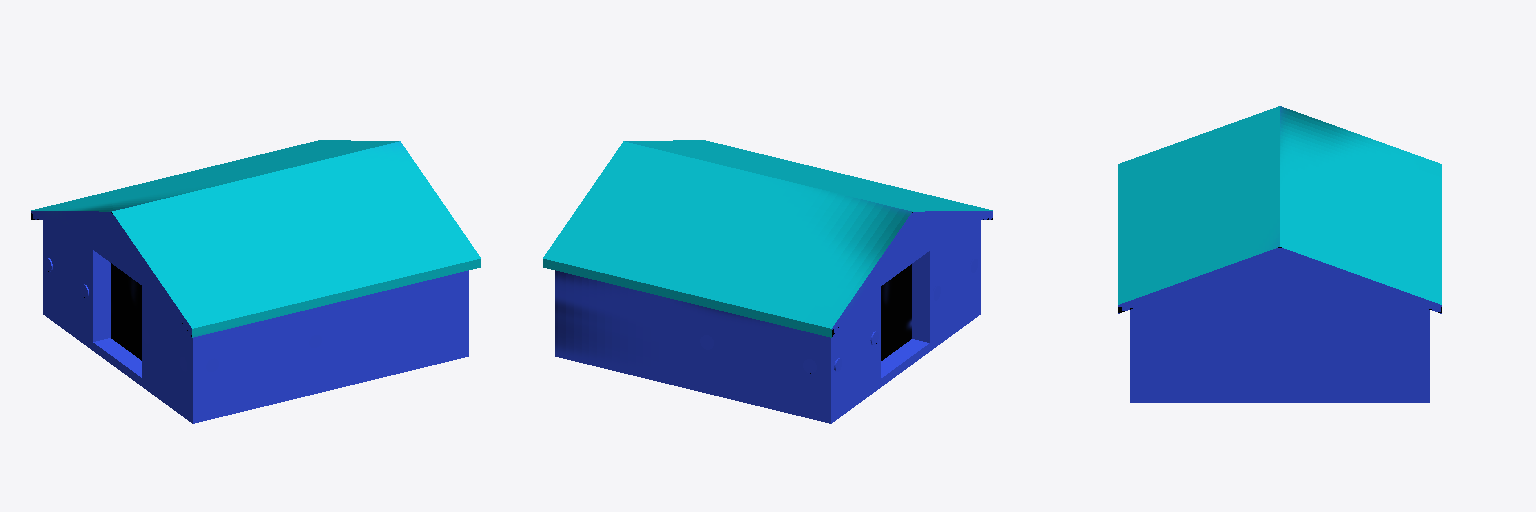
The picture shows the model from 3 angles: view 1: azimuth 30°, elevation 25°; view 2: azimuth 150°, elevation 25°; view 3: azimuth 270°, elevation 25°; orthographic projection.
Visible parts, largest first — view 1: Cube.001_Cube.004; view 2: Cube.001_Cube.004; view 3: Cube.001_Cube.004.
Boxes of the visible parts, <box> form: Cube.001_Cube.004: <box>31,140,480,423</box>; Cube.001_Cube.004: <box>543,140,992,423</box>; Cube.001_Cube.004: <box>1118,106,1441,402</box>.
Bounding box in the file's own units: 43.04 × 22.66 × 41.71.
1 materials, 1 textured.